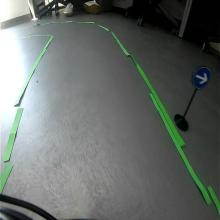right: (193, 66, 211, 89)
